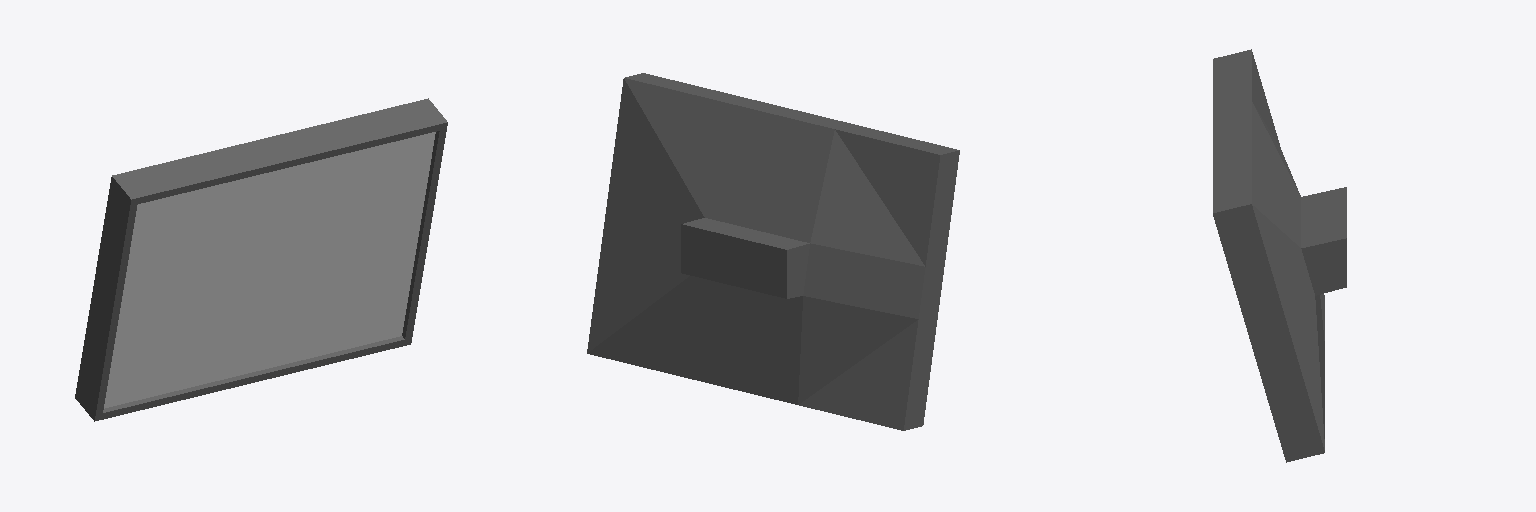
File: WallTV.obj
The picture shows the model from 3 angles: view 1: azimuth 30°, elevation 25°; view 2: azimuth 150°, elevation 25°; view 3: azimuth 270°, elevation 25°; orthographic projection.
Parts seen in each view (by area): view 1: WallTV; view 2: WallTV; view 3: WallTV.
Part boxes in pixels (x1,y1,x2,y2): WallTV: (75,98,447,421); WallTV: (587,73,959,430); WallTV: (1213,49,1346,462).
Size of the model in its own units: 1.8 by 1.4 by 0.6641.